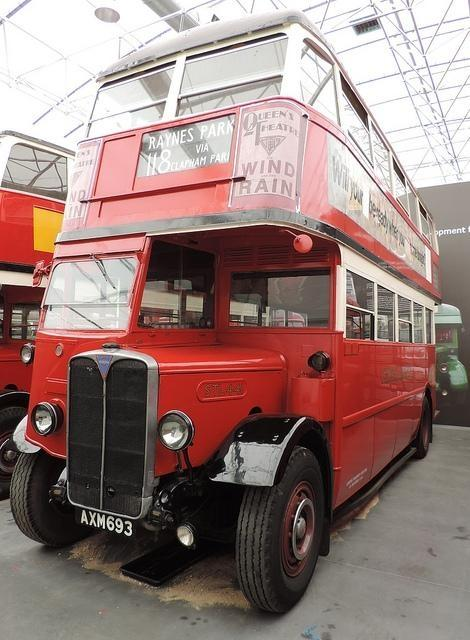bus: (4, 14, 440, 617), (4, 134, 74, 489)
